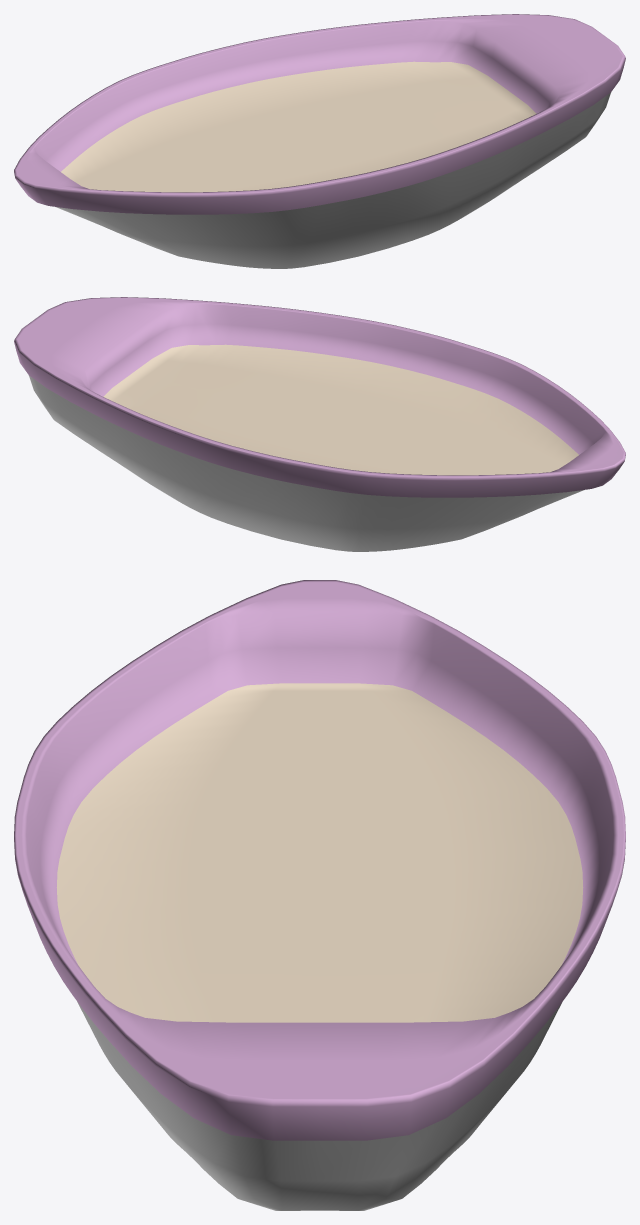
Rendered from Boat-Base-Final.fbx.
3 renders of one model, top to bottom at view 1: azimuth 30°, elevation 25°; view 2: azimuth 150°, elevation 25°; view 3: azimuth 270°, elevation 25°, orthographic. The views are drawn at different scales.
Visible parts, largest first — view 1: Boat1; view 2: Boat1; view 3: Boat1.
Boxes of the visible parts, x1=… form: Boat1: x1=14, y1=14, x2=625, y2=268; Boat1: x1=14, y1=297, x2=625, y2=551; Boat1: x1=14, y1=580, x2=625, y2=1210.
Bounding box in the file's own units: 19.3 × 4.12 × 9.57.
